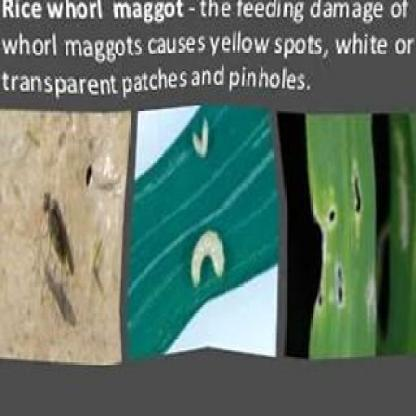whorl-maggot: (187, 224, 229, 288), (189, 118, 211, 157)
